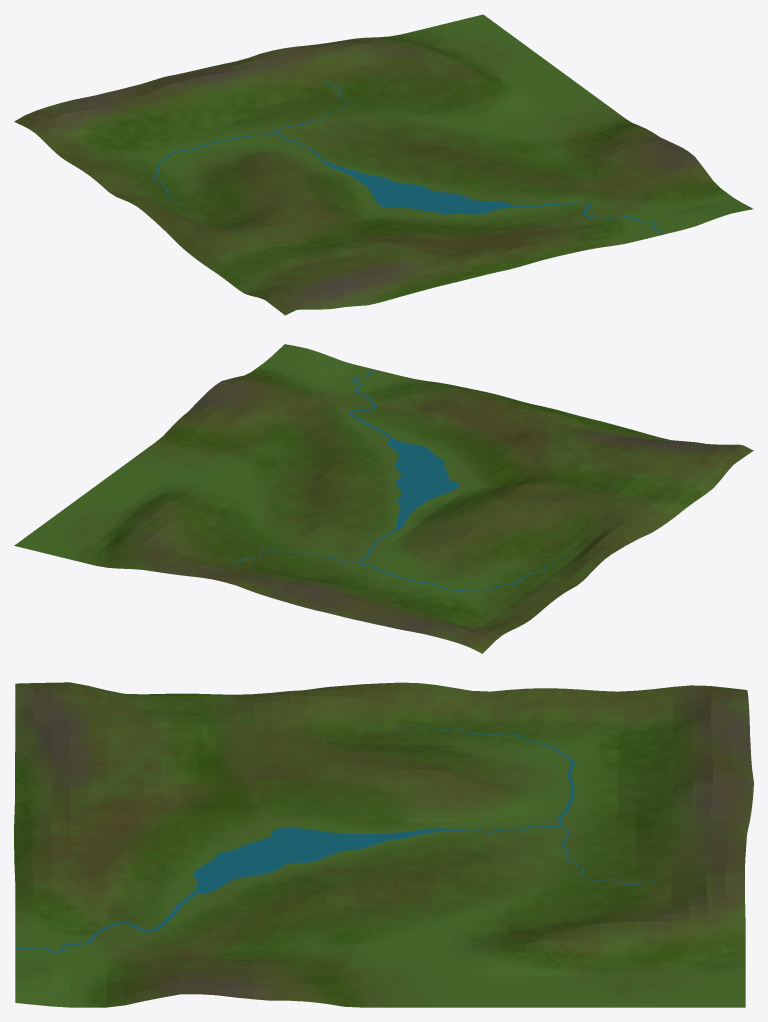
The model's file is MyTerrain2.obj.
The picture shows the model from 3 angles, top to bottom: view 1: azimuth 30°, elevation 25°; view 2: azimuth 150°, elevation 25°; view 3: azimuth 270°, elevation 25°; orthographic projection. The views are drawn at different scales.
Parts seen in each view (by area): view 1: terrain_Cube.001; view 2: terrain_Cube.001; view 3: terrain_Cube.001.
Part boxes in pixels (box(x1,y1,x2,y2)): terrain_Cube.001: box(14, 14, 753, 315); terrain_Cube.001: box(14, 344, 753, 653); terrain_Cube.001: box(14, 682, 753, 1007).
Bounding box in the file's own units: 40.28 × 1.49 × 40.54.
Materials: 1 (1 with a texture image).
